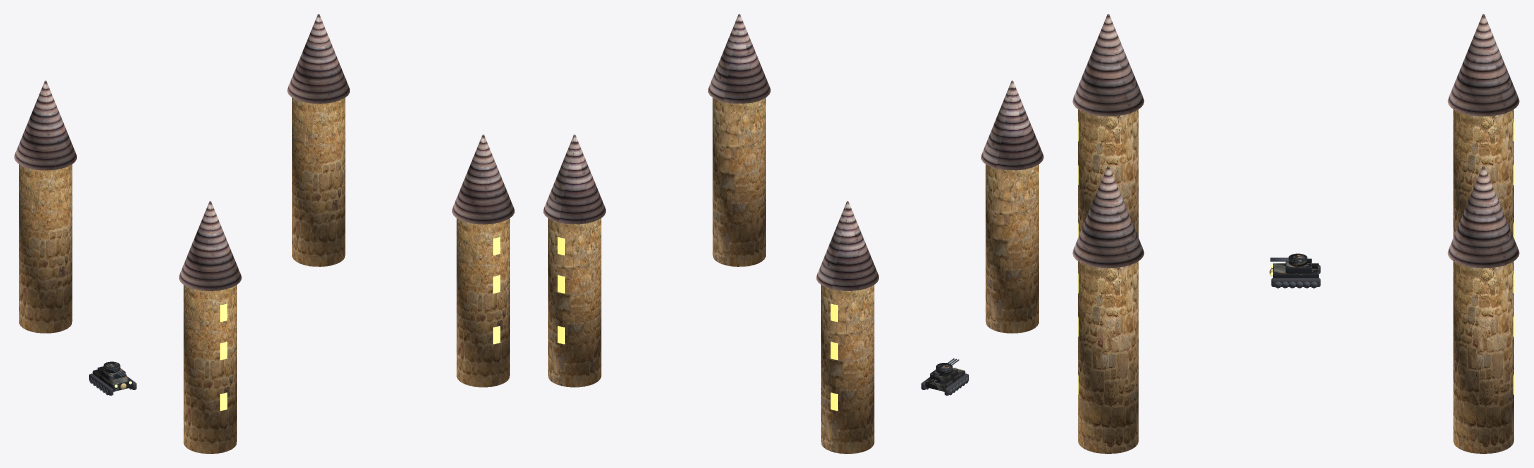
The model's file is haunted_castle_fortress.glb.
3 renders of one model, left to right at view 1: azimuth 30°, elevation 25°; view 2: azimuth 150°, elevation 25°; view 3: azimuth 270°, elevation 25°, orthographic. The views are drawn at different scales.
Parts seen in each view (by area): view 1: Bastion_Tower_3, Bastion_Tower_2, Bastion_Tower_1, Bastion_Tower_0, Bastion_Spire_1, Bastion_Spire_2, Bastion_Spire_3, Bastion_Spire_0; view 2: Bastion_Tower_1, Bastion_Tower_0, Bastion_Tower_3, Bastion_Tower_2, Bastion_Spire_3, Bastion_Spire_0, Bastion_Spire_1, Bastion_Spire_2; view 3: Bastion_Tower_1, Bastion_Tower_3, Bastion_Tower_0, Bastion_Tower_2, Bastion_Spire_0, Bastion_Spire_2, Bastion_Spire_1, Bastion_Spire_3.
Boxes of the visible parts, <box> form: Bastion_Tower_3: <box>292,98,345,266</box>; Bastion_Tower_2: <box>19,164,72,333</box>; Bastion_Tower_1: <box>456,218,509,387</box>; Bastion_Tower_0: <box>183,285,236,453</box>; Bastion_Spire_1: <box>452,134,514,224</box>; Bastion_Spire_2: <box>14,80,76,170</box>; Bastion_Spire_3: <box>287,14,349,103</box>; Bastion_Spire_0: <box>179,201,241,290</box>; Bastion_Tower_1: <box>712,98,765,266</box>; Bastion_Tower_0: <box>985,164,1038,333</box>; Bastion_Tower_3: <box>548,218,601,387</box>; Bastion_Tower_2: <box>821,285,874,453</box>; Bastion_Spire_3: <box>543,134,605,224</box>; Bastion_Spire_0: <box>981,80,1043,170</box>; Bastion_Spire_1: <box>708,14,770,103</box>; Bastion_Spire_2: <box>816,201,878,290</box>; Bastion_Tower_1: <box>1078,261,1138,453</box>; Bastion_Tower_3: <box>1453,261,1513,453</box>; Bastion_Tower_0: <box>1078,109,1138,237</box>; Bastion_Tower_2: <box>1453,109,1513,237</box>; Bastion_Spire_0: <box>1072,14,1144,116</box>; Bastion_Spire_2: <box>1447,14,1519,116</box>; Bastion_Spire_1: <box>1072,166,1144,268</box>; Bastion_Spire_3: <box>1447,166,1519,268</box>.
Size of the model in its own units: 54.31 by 38 by 56.
Materials: 8 (3 with a texture image).
